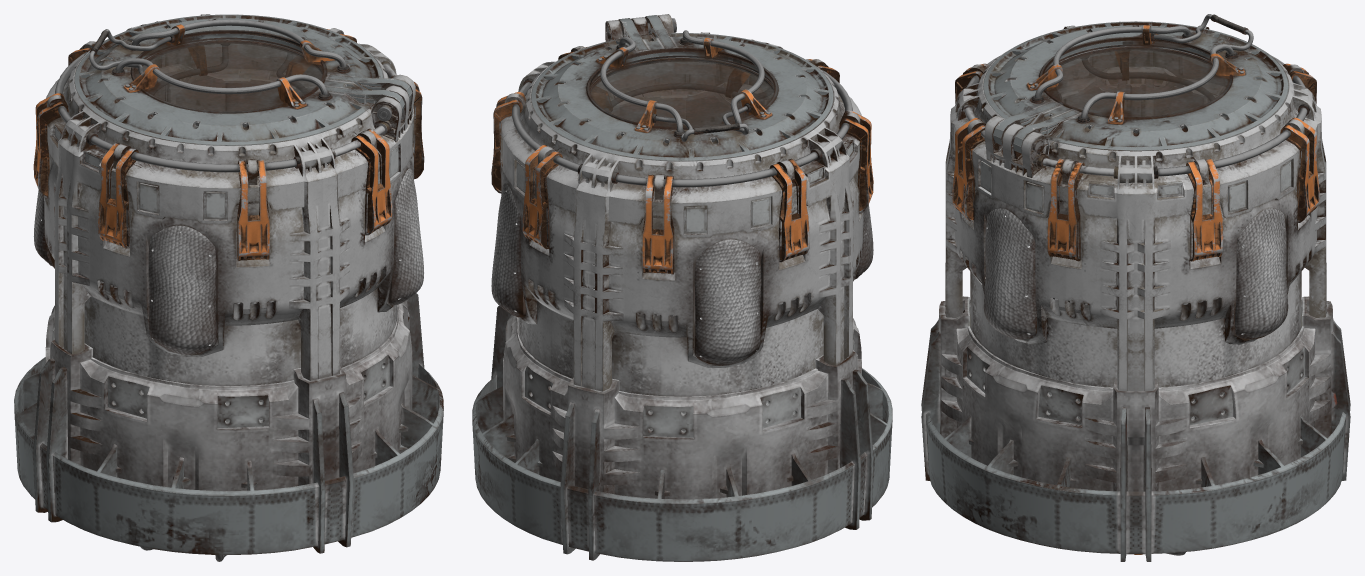
The model's file is space_cargo_transporter.glb.
3 views of the same model, side by side, from view 1: azimuth 30°, elevation 25°; view 2: azimuth 150°, elevation 25°; view 3: azimuth 270°, elevation 25° (orthographic). The views are drawn at different scales.
Visible parts, largest first — view 1: Cabin_Body_6, Cabin_Bottom_5, Cabin_Cap_7, Cabin.008_0; view 2: Cabin_Body_6, Cabin_Bottom_5, Cabin_Cap_7; view 3: Cabin_Body_6, Cabin_Bottom_5, Cabin_Cap_7, Cabin.008_0.
Part boxes in pixels (bbox=[...]): Cabin_Body_6: bbox=[33, 14, 424, 385]; Cabin_Bottom_5: bbox=[14, 64, 443, 561]; Cabin_Cap_7: bbox=[74, 14, 412, 145]; Cabin.008_0: bbox=[331, 61, 396, 158]; Cabin_Body_6: bbox=[491, 14, 873, 396]; Cabin_Bottom_5: bbox=[472, 82, 892, 561]; Cabin_Cap_7: bbox=[531, 15, 833, 161]; Cabin_Body_6: bbox=[945, 21, 1326, 491]; Cabin_Bottom_5: bbox=[921, 67, 1350, 561]; Cabin_Cap_7: bbox=[983, 14, 1288, 153]; Cabin.008_0: bbox=[962, 104, 1118, 178].
Size of the model in its own units: 4.9 by 5.73 by 4.91.
Materials: 3 (3 with a texture image).
